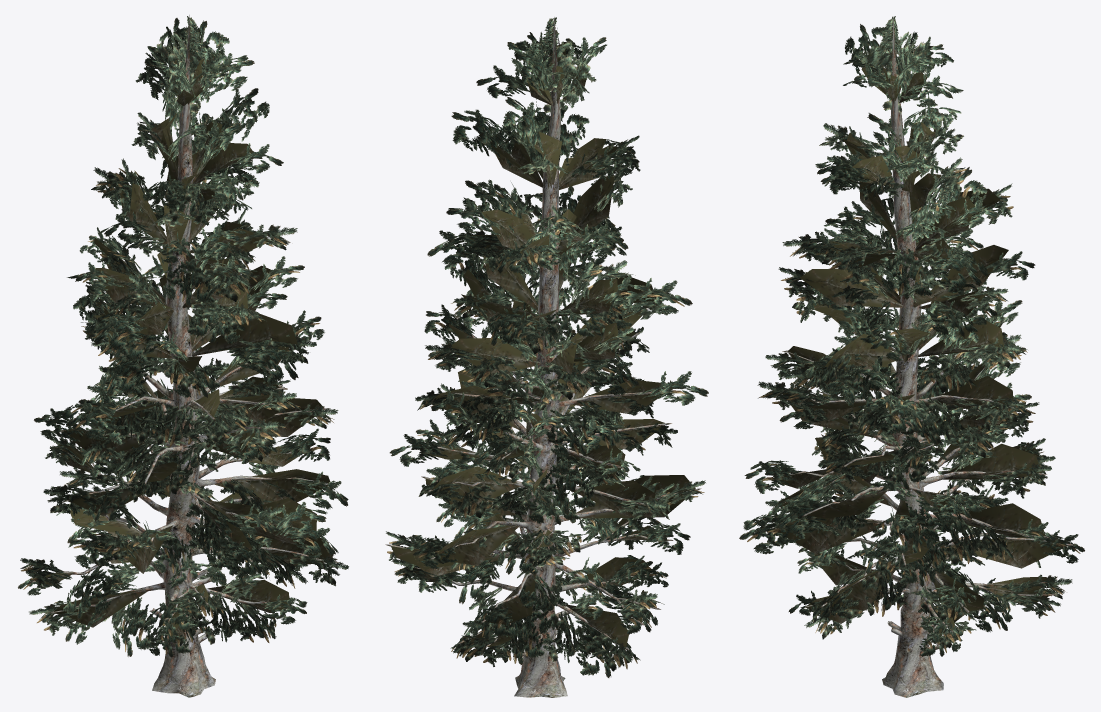
Rendered from BlueSpruce_2.fbx.
3 renders of one model, left to right at view 1: azimuth 30°, elevation 25°; view 2: azimuth 150°, elevation 25°; view 3: azimuth 270°, elevation 25°, orthographic.
Visible parts, largest first — view 1: BlueSpruce_2; view 2: BlueSpruce_2; view 3: BlueSpruce_2.
Boxes of the visible parts, x1=… form: BlueSpruce_2: x1=18, y1=15, x2=348, y2=697; BlueSpruce_2: x1=385, y1=17, x2=708, y2=697; BlueSpruce_2: x1=739, y1=16, x2=1084, y2=697.
Bounding box in the file's own units: 12.42 × 28.58 × 13.51.
